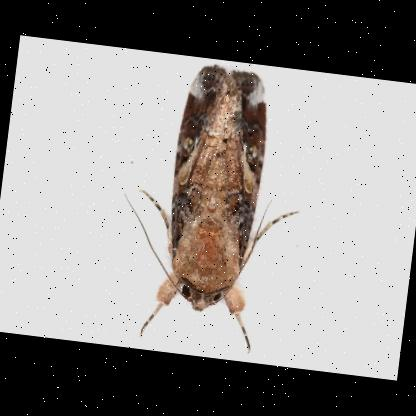Fall Armyworm Moth: (102, 52, 318, 361)
